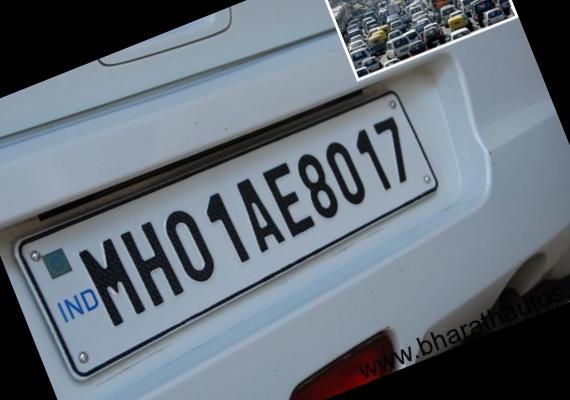plate: (5, 54, 497, 377)
